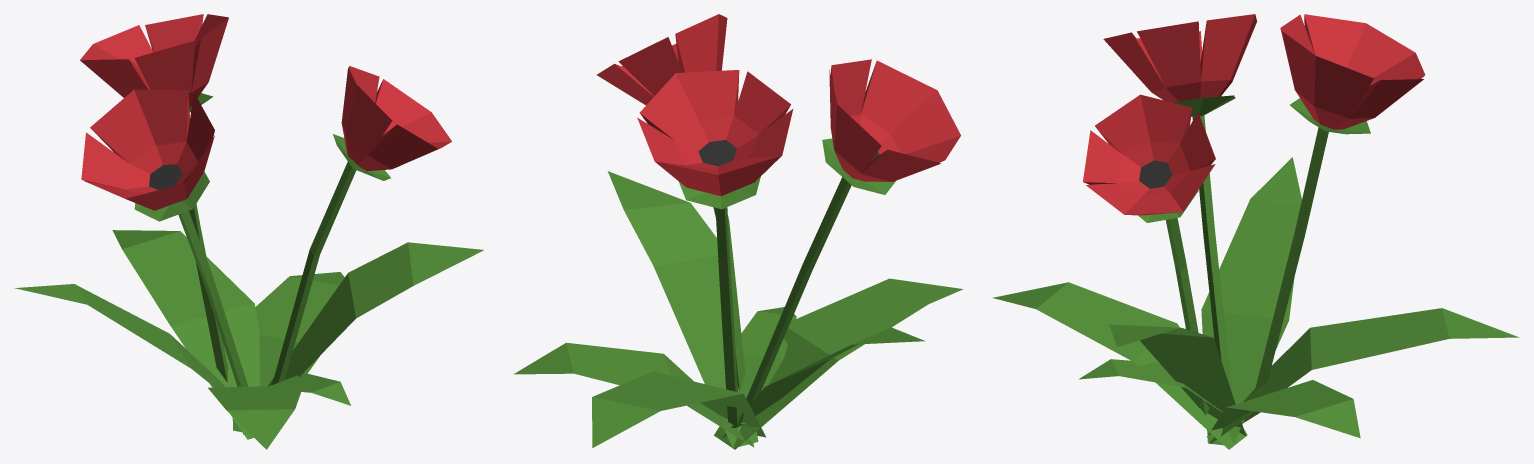
Rendered from flowers.glb.
3 views of the same model, side by side, from view 1: azimuth 30°, elevation 25°; view 2: azimuth 150°, elevation 25°; view 3: azimuth 270°, elevation 25° (orthographic). The views are drawn at different scales.
Parts seen in each view (by area): view 1: carnations; view 2: carnations; view 3: carnations.
Boxes of the visible parts, x1,y1,x2,y2 form: carnations: (14, 14, 483, 449); carnations: (514, 14, 963, 449); carnations: (992, 14, 1519, 449).
Bounding box in the file's own units: 0.7997 × 0.749 × 0.9086.
